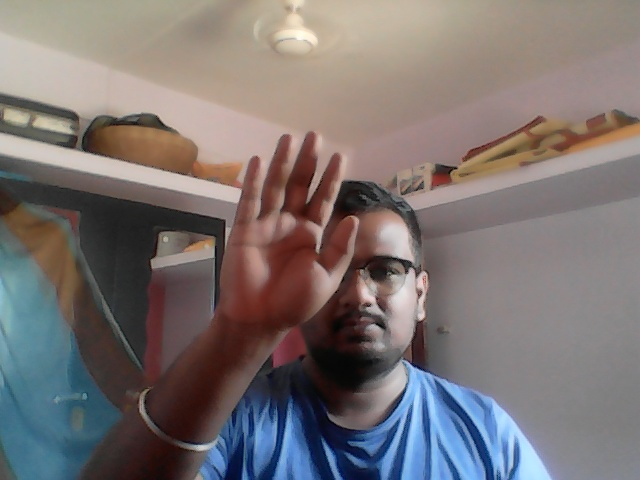Hello: (214, 127, 360, 342)
